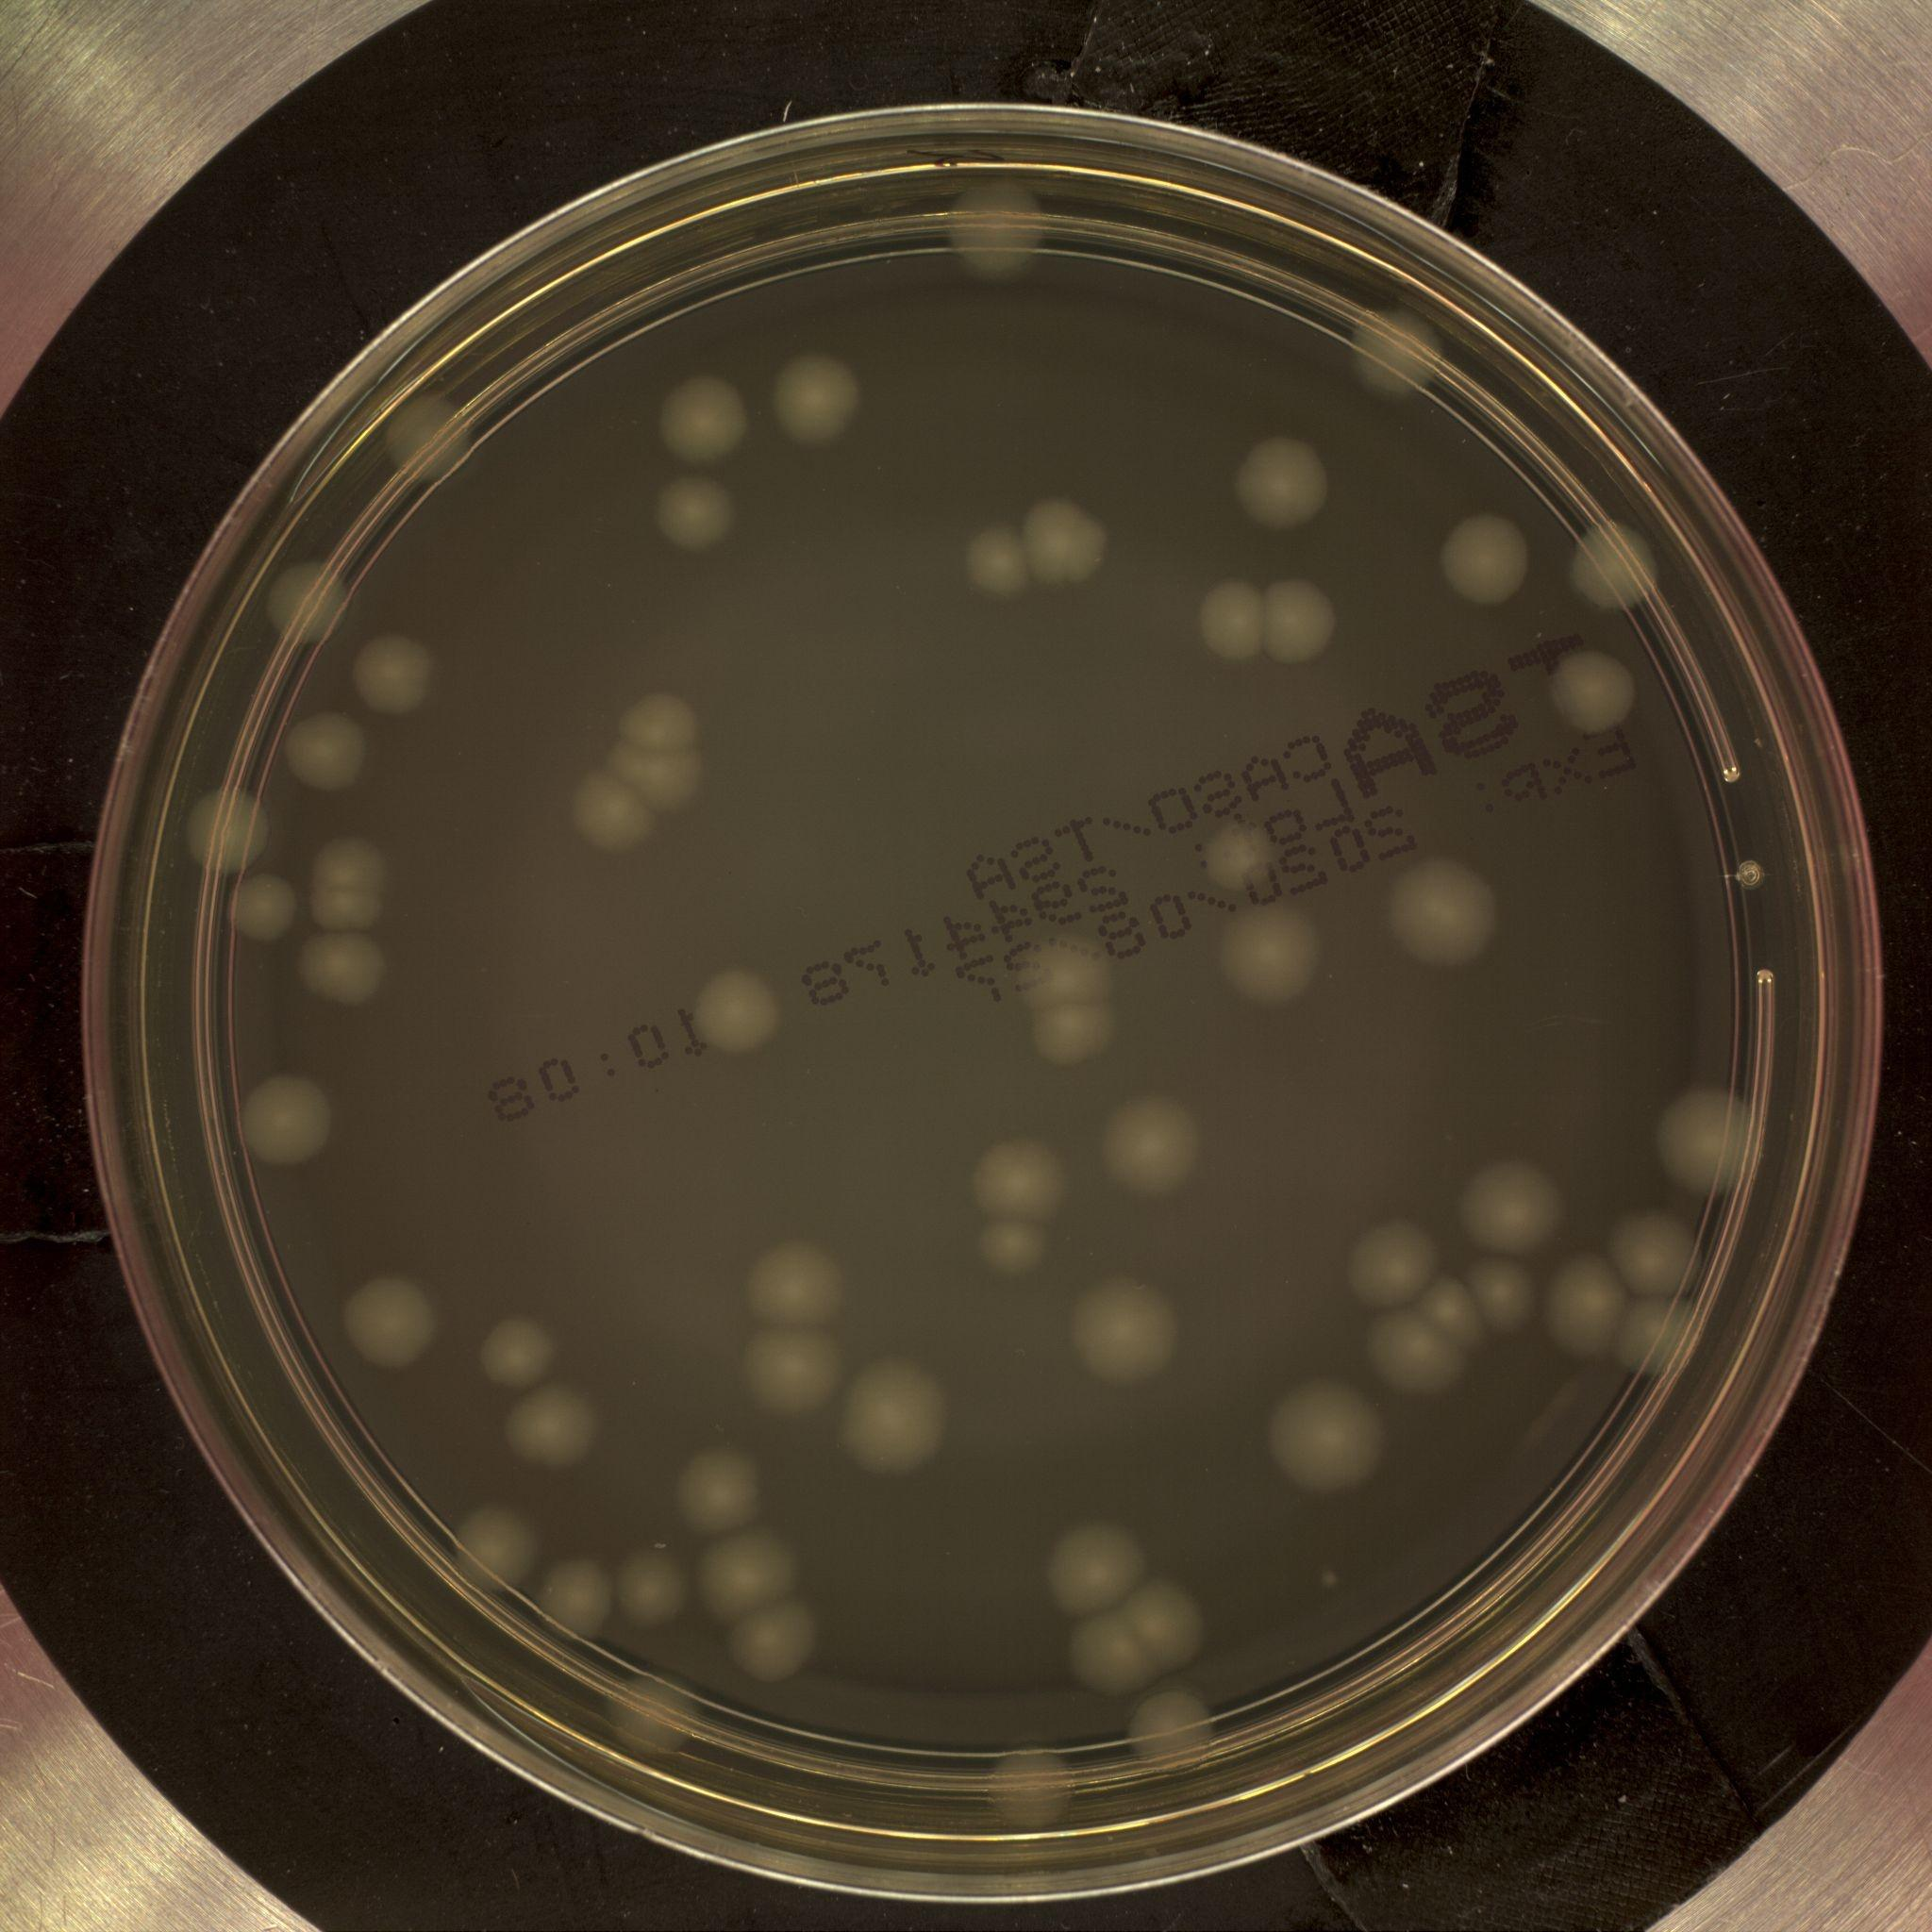e. coli: (1267, 1377, 1392, 1491), (1651, 1074, 1767, 1193), (842, 1354, 951, 1481), (609, 684, 718, 811), (1017, 936, 1119, 1064), (1385, 860, 1495, 974), (1099, 1087, 1208, 1198), (1066, 1275, 1177, 1385), (741, 1319, 854, 1426), (1456, 1156, 1564, 1262), (1222, 904, 1326, 1009), (341, 1274, 446, 1375), (743, 1243, 857, 1335), (948, 179, 1053, 275), (239, 1071, 338, 1172), (699, 1533, 812, 1621), (1439, 509, 1539, 608), (1613, 1209, 1718, 1302), (1347, 304, 1446, 401), (1050, 1514, 1149, 1608), (652, 373, 753, 464), (1542, 646, 1640, 741), (1432, 1259, 1534, 1349), (732, 1592, 826, 1689), (1022, 498, 1116, 594), (1350, 1212, 1441, 1311), (501, 1382, 600, 1474), (1357, 1309, 1460, 1396), (671, 1434, 760, 1533), (767, 358, 869, 445), (449, 1502, 543, 1594), (1123, 1580, 1215, 1674), (1625, 1291, 1723, 1379), (1571, 514, 1663, 606), (390, 387, 473, 489), (609, 1674, 701, 1766), (303, 832, 385, 932), (185, 788, 275, 879), (1239, 441, 1331, 530), (572, 772, 666, 858), (1543, 1262, 1635, 1351), (295, 929, 394, 1009), (973, 1137, 1064, 1222), (1067, 1611, 1156, 1698), (694, 967, 779, 1057), (986, 1743, 1078, 1825), (1121, 1693, 1220, 1769), (1259, 583, 1345, 670), (284, 709, 375, 791), (614, 1538, 694, 1630), (543, 1558, 621, 1653), (359, 632, 440, 717), (265, 561, 347, 643), (1196, 816, 1279, 896), (654, 470, 734, 547), (479, 1311, 558, 1389), (1199, 580, 1272, 660), (223, 868, 295, 948), (976, 1219, 1059, 1283), (963, 528, 1033, 596)
